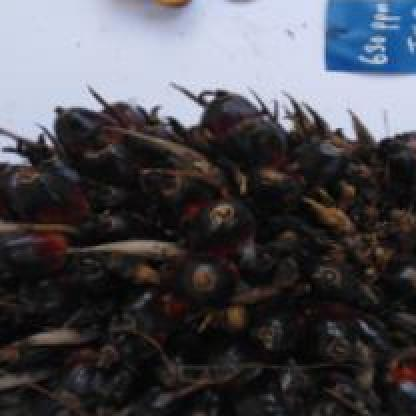Unripe: (0, 68, 416, 416)
